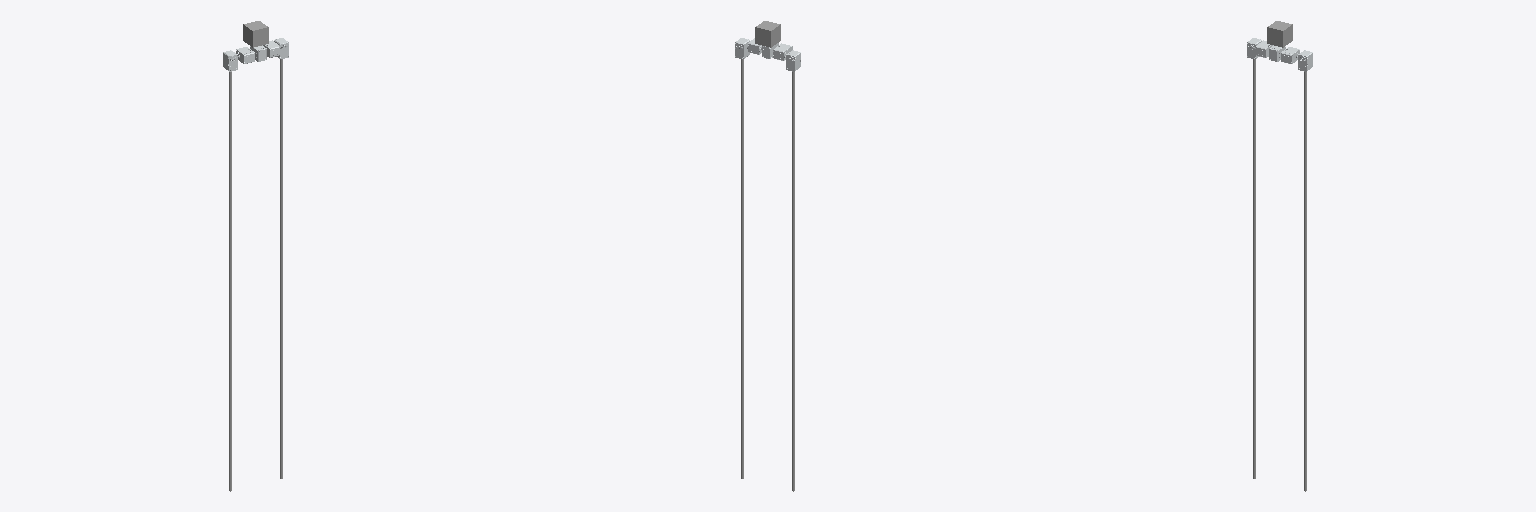
The robot description file, URDF, robot "chopstick_bot":
<?xml version='1.0' encoding='utf-8'?>
<robot name="chopstick_bot">
  <link name="world" />
  <joint name="world_to_base" type="fixed">
    <origin xyz="0.000000 0.000000 1.370000" rpy="0.000000 0.000000 0.000000" />
    <parent link="world" />
    <child link="base_motor_link" />
    </joint>
  <link name="base_motor_link">
    <visual>
      <origin xyz="0.000000 0.000000 0.000000" rpy="0.000000 0.000000 0.000000" />
      <geometry>
        <mesh filename="meshes/XL-430_new_coordinate_on_axis.STL" scale="0.001000 0.001000 0.001000" />
        </geometry>
      <material name="motor_mat">
        <color rgba="0.89804 0.91765 0.92941 1.0" />
        </material>
      </visual>
    <collision>
      <origin xyz="0.000000 -0.012000 0.000000" rpy="0.000000 0.000000 0.000000" />
      <geometry>
        <box size="0.028500 0.046500 0.034000" />
        </geometry>
      </collision>
    <inertial>
      <origin xyz="0.000000 -0.012000 0.000000" rpy="0.000000 0.000000 0.000000" />
      <mass value="0.065000" />
      <inertia ixx="0.000017973854" ixy="0" ixz="0" iyy="0.000010661354" iyz="0" izz="0.000016111875" />
      </inertial>
    </link>
  <link name="l_hip_pitch">
    <visual>
      <origin xyz="0.000000 0.000000 0.000000" rpy="0.000000 0.000000 0.000000" />
      <geometry>
        <mesh filename="meshes/XL-430_new_coordinate_on_axis.STL" scale="0.001000 0.001000 0.001000" />
        </geometry>
      <material name="motor_mat">
        <color rgba="0.89804 0.91765 0.92941 1.0" />
        </material>
      </visual>
    <collision>
      <origin xyz="0.000000 -0.012000 0.000000" rpy="0.000000 0.000000 0.000000" />
      <geometry>
        <box size="0.028500 0.046500 0.034000" />
        </geometry>
      </collision>
    <inertial>
      <origin xyz="0.000000 -0.012000 0.000000" rpy="0.000000 0.000000 0.000000" />
      <mass value="0.065000" />
      <inertia ixx="0.000017973854" ixy="0" ixz="0" iyy="0.000010661354" iyz="0" izz="0.000016111875" />
      </inertial>
    </link>
  <link name="l_hip_pitch_out">
    <inertial>
      <origin xyz="0.000000 0.000000 0.000000" rpy="0.000000 0.000000 0.000000" />
      <mass value="0.001000" />
      <inertia ixx="0.000000016667" ixy="0" ixz="0" iyy="0.000000016667" iyz="0" izz="0.000000016667" />
      </inertial>
    </link>
  <joint name="l_hip_pitch_mount_fixed" type="fixed">
    <origin xyz="-0.040000 0.000000 0.000000" rpy="0.000000 -1.570796 0.000000" />
    <parent link="base_motor_link" />
    <child link="l_hip_pitch" />
    </joint>
  <joint name="l_hip_pitch_joint" type="revolute">
    <origin xyz="0.000000 0.000000 0.000000" rpy="0.000000 0.000000 0.000000" />
    <parent link="l_hip_pitch" />
    <child link="l_hip_pitch_out" />
    <axis xyz="0.000000 0.000000 1.000000" />
    <limit lower="-3.14159" upper="3.14159" effort="5.0" velocity="8.0" />
    </joint>
  <link name="l_hip_roll">
    <visual>
      <origin xyz="0.000000 0.000000 0.000000" rpy="0.000000 0.000000 0.000000" />
      <geometry>
        <mesh filename="meshes/XL-430_new_coordinate_on_axis.STL" scale="0.001000 0.001000 0.001000" />
        </geometry>
      <material name="motor_mat">
        <color rgba="0.89804 0.91765 0.92941 1.0" />
        </material>
      </visual>
    <collision>
      <origin xyz="0.000000 -0.012000 0.000000" rpy="0.000000 0.000000 0.000000" />
      <geometry>
        <box size="0.028500 0.046500 0.034000" />
        </geometry>
      </collision>
    <inertial>
      <origin xyz="0.000000 -0.012000 0.000000" rpy="0.000000 0.000000 0.000000" />
      <mass value="0.065000" />
      <inertia ixx="0.000017973854" ixy="0" ixz="0" iyy="0.000010661354" iyz="0" izz="0.000016111875" />
      </inertial>
    </link>
  <link name="l_hip_roll_out">
    <inertial>
      <origin xyz="0.000000 0.000000 0.000000" rpy="0.000000 0.000000 0.000000" />
      <mass value="0.001000" />
      <inertia ixx="0.000000016667" ixy="0" ixz="0" iyy="0.000000016667" iyz="0" izz="0.000000016667" />
      </inertial>
    </link>
  <joint name="l_hip_roll_mount_fixed" type="fixed">
    <origin xyz="0.000000 0.000000 0.040000" rpy="0.000000 -1.570796 -1.570796" />
    <parent link="l_hip_pitch_out" />
    <child link="l_hip_roll" />
    </joint>
  <joint name="l_hip_roll_joint" type="revolute">
    <origin xyz="0.000000 0.000000 0.000000" rpy="0.000000 0.000000 0.000000" />
    <parent link="l_hip_roll" />
    <child link="l_hip_roll_out" />
    <axis xyz="0.000000 0.000000 1.000000" />
    <limit lower="-3.14159" upper="3.14159" effort="5.0" velocity="8.0" />
    </joint>
  <link name="l_end_effector">
    <visual>
      <origin xyz="0.000000 0.000000 0.000000" rpy="1.570796 0.000000 0.000000" />
      <geometry>
        <cylinder radius="0.005000" length="1.300000" />
        </geometry>
      <material name="cylinder_mat">
        <color rgba="0.7 0.7 0.7 1.0" />
        </material>
      </visual>
    <collision>
      <origin xyz="0.000000 -0.650000 0.000000" rpy="0.000000 0.000000 0.000000" />
      <geometry>
        <box size="0.020000 0.020000 0.020000" />
        </geometry>
      </collision>
    <inertial>
      <origin xyz="0.000000 0.000000 0.000000" rpy="0.000000 0.000000 0.000000" />
      <mass value="0.051051" />
      <inertia ixx="0.007189984755" ixy="0" ixz="0" iyy="0.007189984755" iyz="0" izz="0.000000638136" />
      </inertial>
    </link>
  <joint name="l_end_effector_fixed" type="fixed">
    <origin xyz="0.000000 -0.650000 0.000000" rpy="0.000000 0.000000 0.000000" />
    <parent link="l_hip_roll_out" />
    <child link="l_end_effector" />
    </joint>
  <link name="r_hip_pitch">
    <visual>
      <origin xyz="0.000000 0.000000 0.000000" rpy="0.000000 0.000000 0.000000" />
      <geometry>
        <mesh filename="meshes/XL-430_new_coordinate_on_axis.STL" scale="0.001000 0.001000 0.001000" />
        </geometry>
      <material name="motor_mat">
        <color rgba="0.89804 0.91765 0.92941 1.0" />
        </material>
      </visual>
    <collision>
      <origin xyz="0.000000 -0.012000 0.000000" rpy="0.000000 0.000000 0.000000" />
      <geometry>
        <box size="0.028500 0.046500 0.034000" />
        </geometry>
      </collision>
    <inertial>
      <origin xyz="0.000000 -0.012000 0.000000" rpy="0.000000 0.000000 0.000000" />
      <mass value="0.065000" />
      <inertia ixx="0.000017973854" ixy="0" ixz="0" iyy="0.000010661354" iyz="0" izz="0.000016111875" />
      </inertial>
    </link>
  <link name="r_hip_pitch_out">
    <inertial>
      <origin xyz="0.000000 0.000000 0.000000" rpy="0.000000 0.000000 0.000000" />
      <mass value="0.001000" />
      <inertia ixx="0.000000016667" ixy="0" ixz="0" iyy="0.000000016667" iyz="0" izz="0.000000016667" />
      </inertial>
    </link>
  <joint name="r_hip_pitch_mount_fixed" type="fixed">
    <origin xyz="0.040000 0.000000 0.000000" rpy="0.000000 1.570796 -0.000000" />
    <parent link="base_motor_link" />
    <child link="r_hip_pitch" />
    </joint>
  <joint name="r_hip_pitch_joint" type="revolute">
    <origin xyz="0.000000 0.000000 0.000000" rpy="0.000000 0.000000 0.000000" />
    <parent link="r_hip_pitch" />
    <child link="r_hip_pitch_out" />
    <axis xyz="0.000000 0.000000 1.000000" />
    <limit lower="-3.14159" upper="3.14159" effort="5.0" velocity="8.0" />
    </joint>
  <link name="r_hip_roll">
    <visual>
      <origin xyz="0.000000 0.000000 0.000000" rpy="0.000000 0.000000 0.000000" />
      <geometry>
        <mesh filename="meshes/XL-430_new_coordinate_on_axis.STL" scale="0.001000 0.001000 0.001000" />
        </geometry>
      <material name="motor_mat">
        <color rgba="0.89804 0.91765 0.92941 1.0" />
        </material>
      </visual>
    <collision>
      <origin xyz="0.000000 -0.012000 0.000000" rpy="0.000000 0.000000 0.000000" />
      <geometry>
        <box size="0.028500 0.046500 0.034000" />
        </geometry>
      </collision>
    <inertial>
      <origin xyz="0.000000 -0.012000 0.000000" rpy="0.000000 0.000000 0.000000" />
      <mass value="0.065000" />
      <inertia ixx="0.000017973854" ixy="0" ixz="0" iyy="0.000010661354" iyz="0" izz="0.000016111875" />
      </inertial>
    </link>
  <link name="r_hip_roll_out">
    <inertial>
      <origin xyz="0.000000 0.000000 0.000000" rpy="0.000000 0.000000 0.000000" />
      <mass value="0.001000" />
      <inertia ixx="0.000000016667" ixy="0" ixz="0" iyy="0.000000016667" iyz="0" izz="0.000000016667" />
      </inertial>
    </link>
  <joint name="r_hip_roll_mount_fixed" type="fixed">
    <origin xyz="-0.000000 0.000000 0.040000" rpy="0.000000 1.570796 1.570796" />
    <parent link="r_hip_pitch_out" />
    <child link="r_hip_roll" />
    </joint>
  <joint name="r_hip_roll_joint" type="revolute">
    <origin xyz="0.000000 0.000000 0.000000" rpy="0.000000 0.000000 0.000000" />
    <parent link="r_hip_roll" />
    <child link="r_hip_roll_out" />
    <axis xyz="0.000000 0.000000 1.000000" />
    <limit lower="-3.14159" upper="3.14159" effort="5.0" velocity="8.0" />
    </joint>
  <link name="r_end_effector">
    <visual>
      <origin xyz="0.000000 0.000000 0.000000" rpy="1.570796 0.000000 0.000000" />
      <geometry>
        <cylinder radius="0.005000" length="1.300000" />
        </geometry>
      <material name="cylinder_mat">
        <color rgba="0.7 0.7 0.7 1.0" />
        </material>
      </visual>
    <collision>
      <origin xyz="0.000000 -0.650000 0.000000" rpy="0.000000 0.000000 0.000000" />
      <geometry>
        <box size="0.020000 0.020000 0.020000" />
        </geometry>
      </collision>
    <inertial>
      <origin xyz="0.000000 0.000000 0.000000" rpy="0.000000 0.000000 0.000000" />
      <mass value="0.051051" />
      <inertia ixx="0.007189984755" ixy="0" ixz="0" iyy="0.007189984755" iyz="0" izz="0.000000638136" />
      </inertial>
    </link>
  <joint name="r_end_effector_fixed" type="fixed">
    <origin xyz="-0.000000 -0.650000 0.000000" rpy="0.000000 -0.000000 0.000000" />
    <parent link="r_hip_roll_out" />
    <child link="r_end_effector" />
    </joint>
  <link name="trunk_link">
    <visual>
      <origin xyz="0.000000 0.000000 0.000000" rpy="0.000000 0.000000 0.000000" />
      <geometry>
        <box size="0.050000 0.050000 0.050000" />
        </geometry>
      <material name="box_mat">
        <color rgba="0.7 0.7 0.7 1.0" />
        </material>
      </visual>
    <collision>
      <origin xyz="0.000000 0.000000 0.000000" rpy="0.000000 0.000000 0.000000" />
      <geometry>
        <box size="0.050000 0.050000 0.050000" />
        </geometry>
      </collision>
    <inertial>
      <origin xyz="0.000000 0.000000 0.000000" rpy="0.000000 0.000000 0.000000" />
      <mass value="0.200000" />
      <inertia ixx="0.000083333333" ixy="0" ixz="0" iyy="0.000083333333" iyz="0" izz="0.000083333333" />
      </inertial>
    </link>
  <joint name="base_to_trunk" type="revolute">
    <origin xyz="0.000000 0.000000 0.050000" rpy="0.000000 0.000000 0.000000" />
    <parent link="base_motor_link" />
    <child link="trunk_link" />
    <axis xyz="0.000000 0.000000 1.000000" />
    <limit lower="-3.14159" upper="3.14159" effort="5.0" velocity="8.0" />
    </joint>
  </robot>

--- Facts derived from the render (not from the file) ---
The picture shows the robot from 3 angles, left to right: view 1: azimuth 30°, elevation 25°; view 2: azimuth 150°, elevation 25°; view 3: azimuth 330°, elevation 25°; orthographic projection.
Robot: chopstick_bot — 13 links, 12 joints (5 revolute, 7 fixed); root link world; default pose: every joint at zero.
Visible links, largest first — view 1: r_end_effector, l_end_effector, trunk_link; view 2: r_end_effector, l_end_effector, trunk_link; view 3: l_end_effector, r_end_effector, trunk_link.
Boxes of the visible links, bbox=[...] form: r_end_effector: bbox=[280, 59, 282, 478]; l_end_effector: bbox=[229, 72, 231, 491]; trunk_link: bbox=[243, 21, 268, 47]; r_end_effector: bbox=[741, 59, 743, 478]; l_end_effector: bbox=[792, 72, 794, 491]; trunk_link: bbox=[755, 21, 780, 47]; l_end_effector: bbox=[1253, 59, 1255, 478]; r_end_effector: bbox=[1304, 72, 1306, 491]; trunk_link: bbox=[1267, 21, 1292, 47].
Size in the robot's own frame: 0.1885 by 0.0602 by 1.38 metres.
5 mesh visuals loaded from 1 distinct referenced files (1 binary STL).
